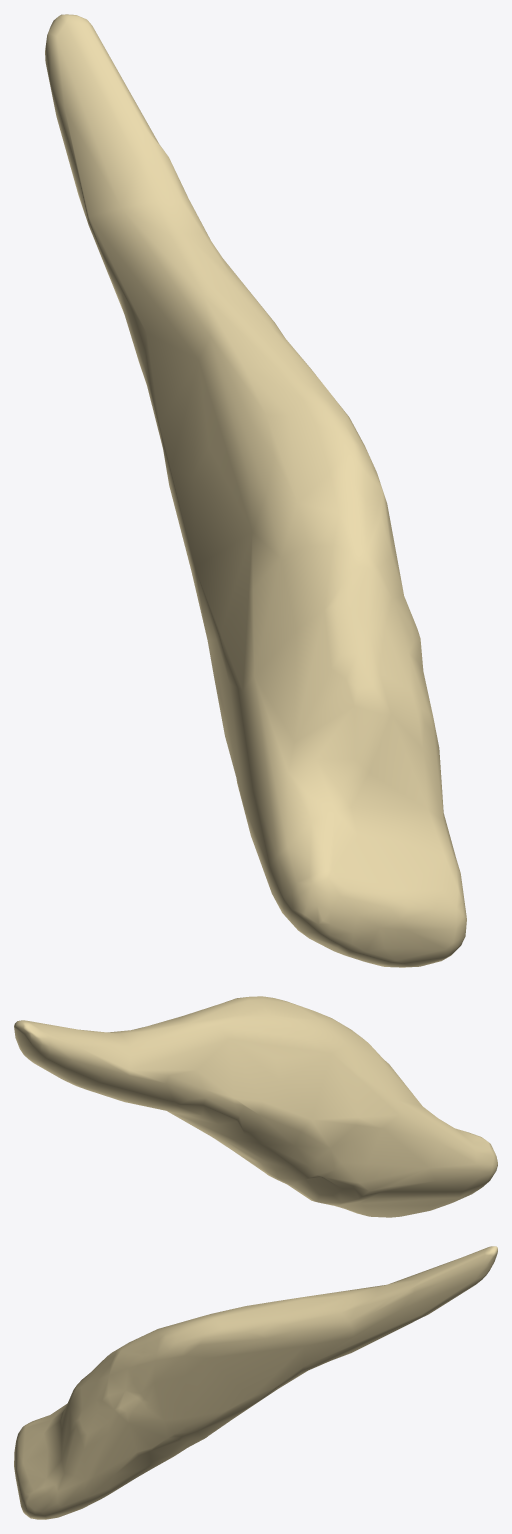
3 renders of one model, top to bottom at view 1: azimuth 30°, elevation 25°; view 2: azimuth 150°, elevation 25°; view 3: azimuth 270°, elevation 25°, orthographic. The views are drawn at different scales.
Visible parts, largest first — view 1: 右侧下颌侧切牙; view 2: 右侧下颌侧切牙; view 3: 右侧下颌侧切牙.
Boxes of the visible parts, bbox=[...] form: 右侧下颌侧切牙: bbox=[45, 14, 466, 967]; 右侧下颌侧切牙: bbox=[14, 996, 497, 1217]; 右侧下颌侧切牙: bbox=[14, 1246, 497, 1519].
Bounding box in the file's own units: 0.0113 × 0.0242 × 0.0361.
